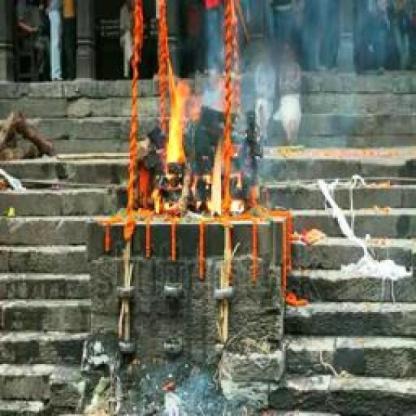fire: (158, 66, 244, 221)
